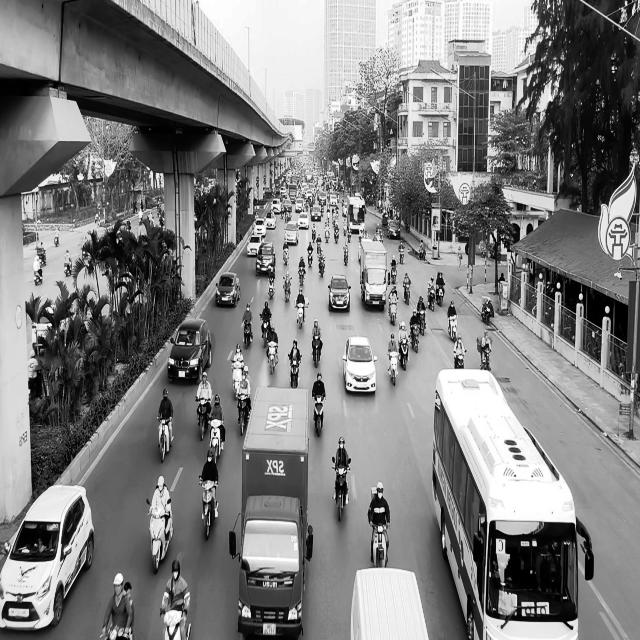bus: (432, 367, 594, 639)
car: (0, 484, 95, 632), (167, 318, 212, 382), (343, 335, 378, 394), (215, 271, 241, 307), (328, 274, 351, 312), (256, 242, 276, 276)
motorbike: (147, 498, 173, 574), (199, 475, 219, 540), (332, 457, 351, 521), (160, 608, 192, 640), (370, 521, 390, 568), (208, 418, 225, 464), (157, 414, 173, 462), (196, 398, 211, 440), (237, 395, 251, 436), (313, 395, 326, 436), (477, 337, 492, 371), (294, 298, 309, 329), (288, 355, 302, 388), (266, 342, 279, 374), (311, 335, 323, 367), (388, 350, 398, 385), (261, 315, 272, 346), (242, 318, 253, 348), (399, 338, 409, 370), (454, 344, 466, 369), (410, 322, 420, 352), (418, 307, 428, 335), (448, 314, 458, 340), (389, 297, 398, 325), (283, 276, 292, 302), (33, 263, 43, 285), (268, 271, 276, 298), (436, 283, 445, 306), (404, 281, 412, 304), (428, 288, 435, 311), (390, 264, 398, 284), (64, 257, 72, 276), (283, 243, 289, 265), (344, 242, 349, 265), (398, 246, 404, 264)
truck: (229, 385, 314, 638)
